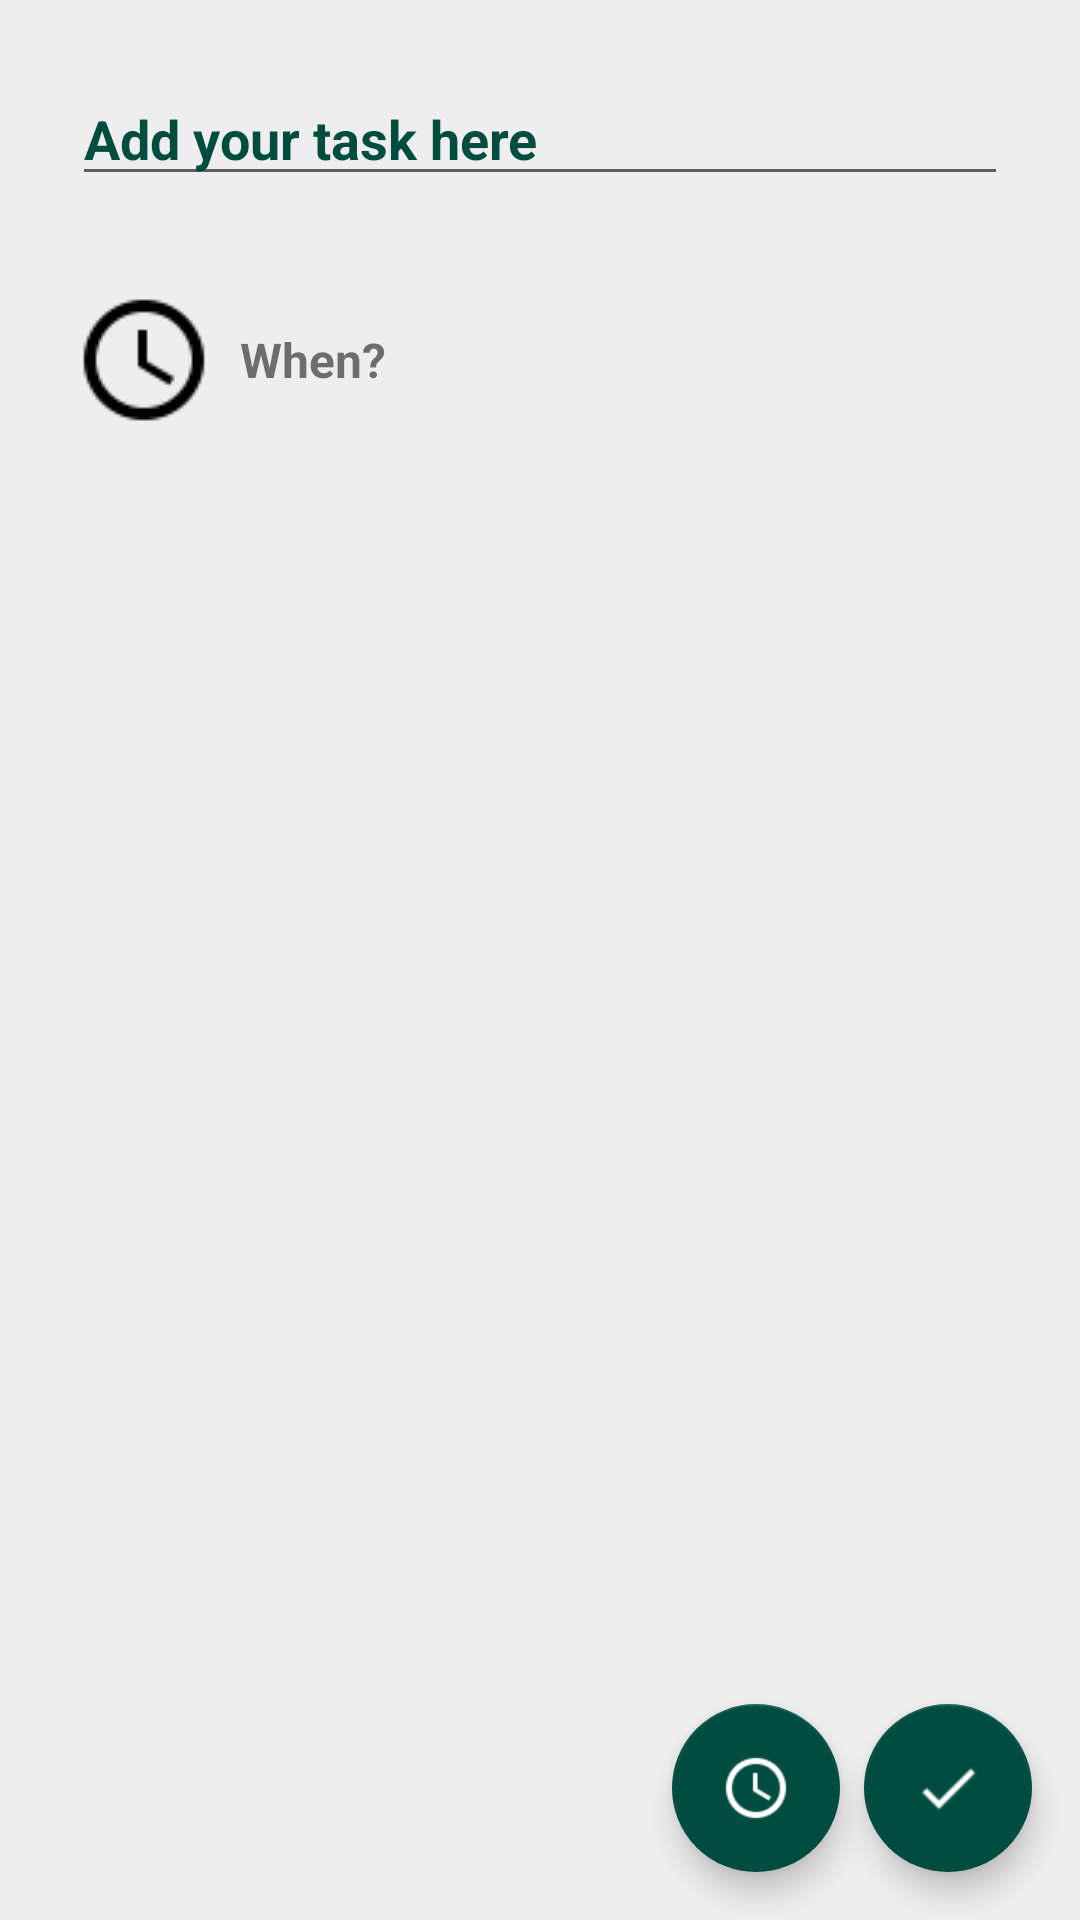

Named icons in this screenshot (1080x1920) and their bounding boxes, (x1, y1, x2, y2):
blackclock: (83, 299, 205, 421)
check: (864, 1704, 1032, 1872)
clock: (672, 1704, 840, 1872)
